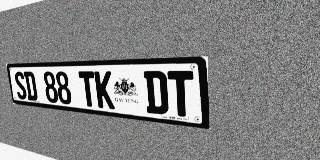8: (55, 71, 72, 105), (42, 71, 59, 103)
D: (144, 71, 169, 115), (23, 71, 38, 101)
K: (94, 71, 115, 109)
S: (14, 72, 28, 100)
T: (167, 71, 195, 118), (78, 71, 97, 107)
